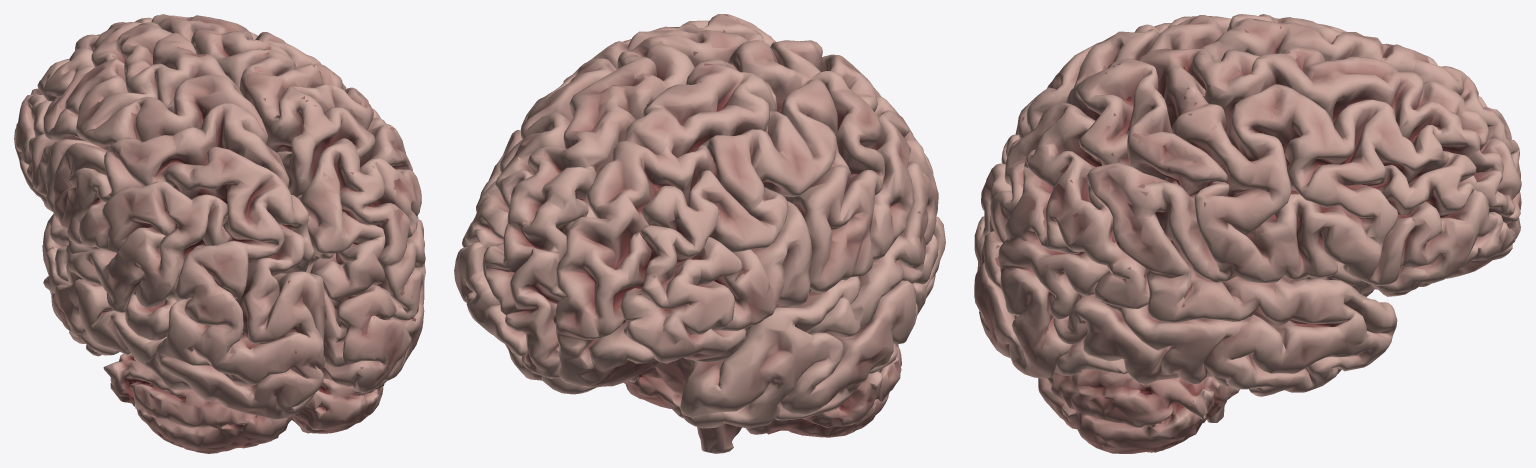
The model's file is brain-hq-lite.glb.
The picture shows the model from 3 angles, left to right: view 1: azimuth 30°, elevation 25°; view 2: azimuth 150°, elevation 25°; view 3: azimuth 270°, elevation 25°; orthographic projection. The views are drawn at different scales.
Visible parts, largest first — view 1: Object_2; view 2: Object_2; view 3: Object_2.
Boxes of the visible parts, <box> form: Object_2: <box>14,14,425,453</box>; Object_2: <box>454,14,945,453</box>; Object_2: <box>974,14,1521,453</box>.
Size of the model in its own units: 134 by 142 by 182.
